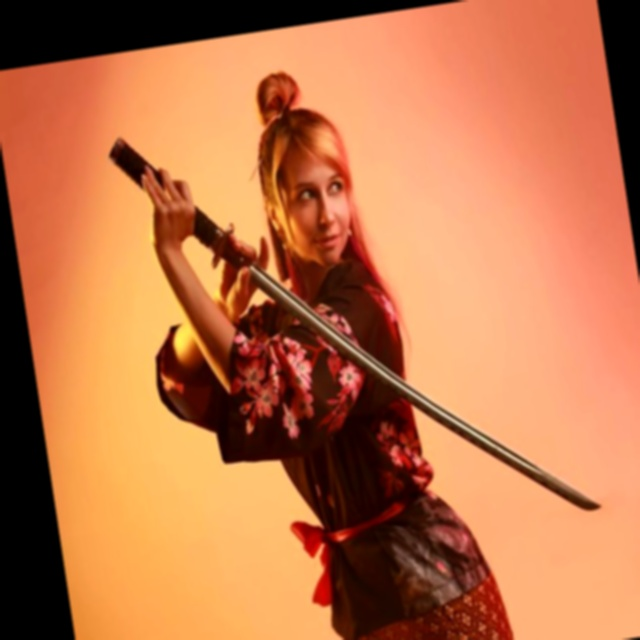Sharp-Object: (100, 76, 615, 597)
